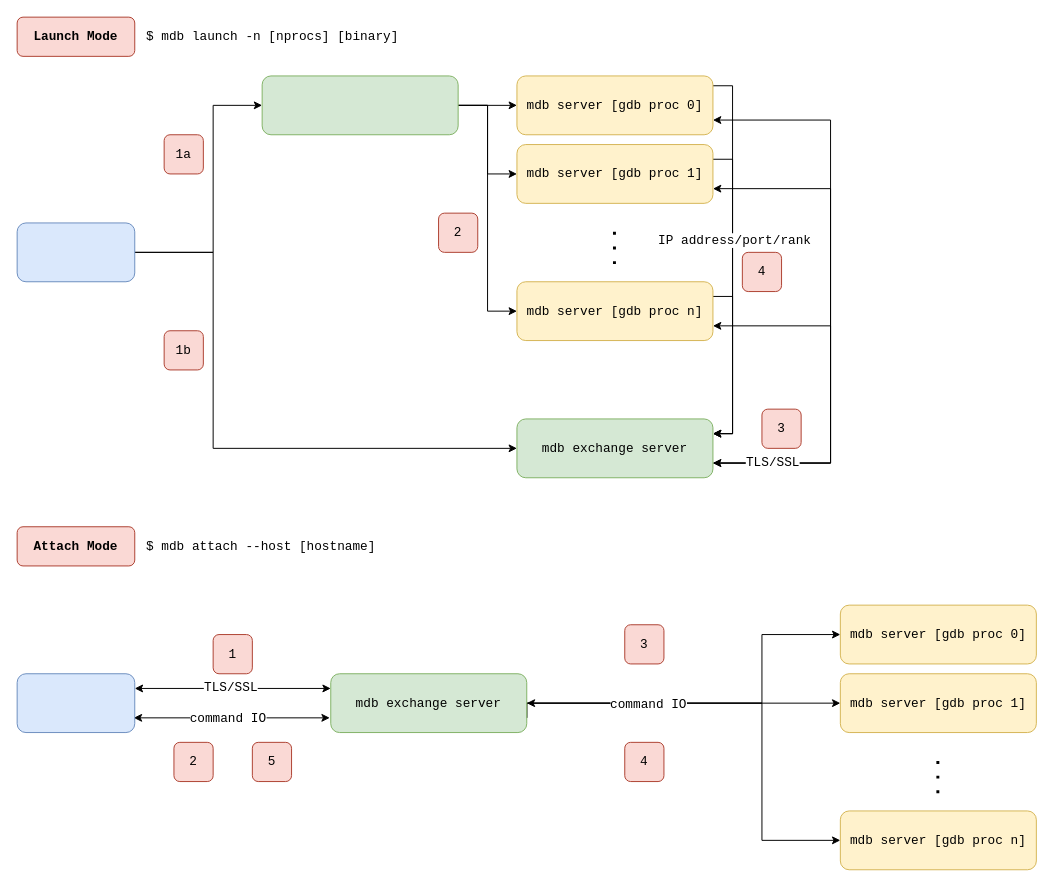
This 1054x887 diagram has some shape labels left out. Each missing label, with the centre of its shape:
mdb attach: [75,703]
mdb launch: [75,252]
mpirun -n [nprocs] [binary]: [359,105]
